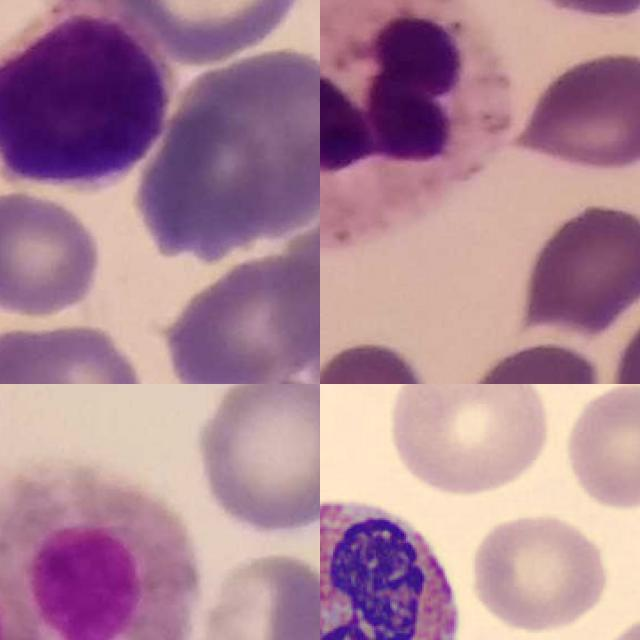Eosinophil: (0, 459, 201, 640), (320, 472, 475, 640)
Lymphocyte: (0, 0, 177, 190)
Neutrophil: (320, 0, 514, 245)
RBC: (381, 384, 555, 498), (467, 508, 613, 635), (557, 384, 640, 515)
